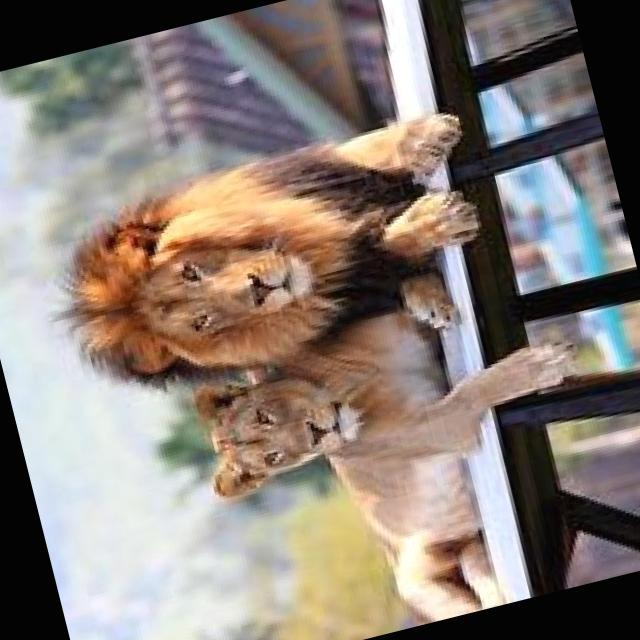lions: (0, 53, 606, 640)
